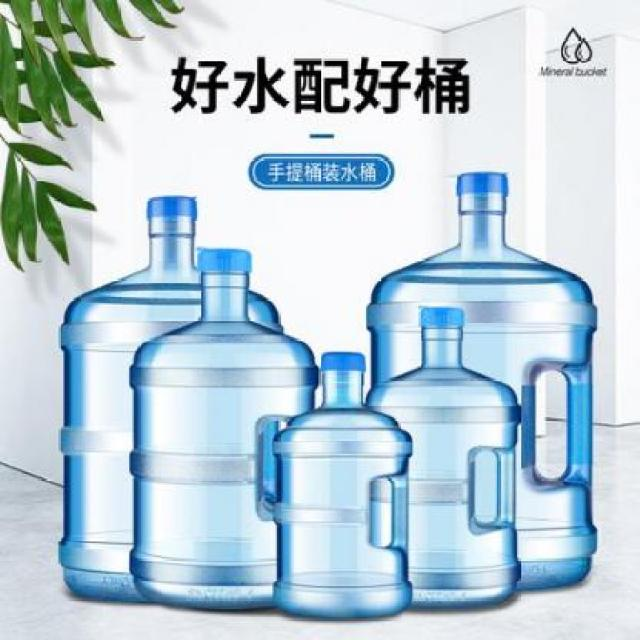coolerbottle: (274, 346, 416, 625)
